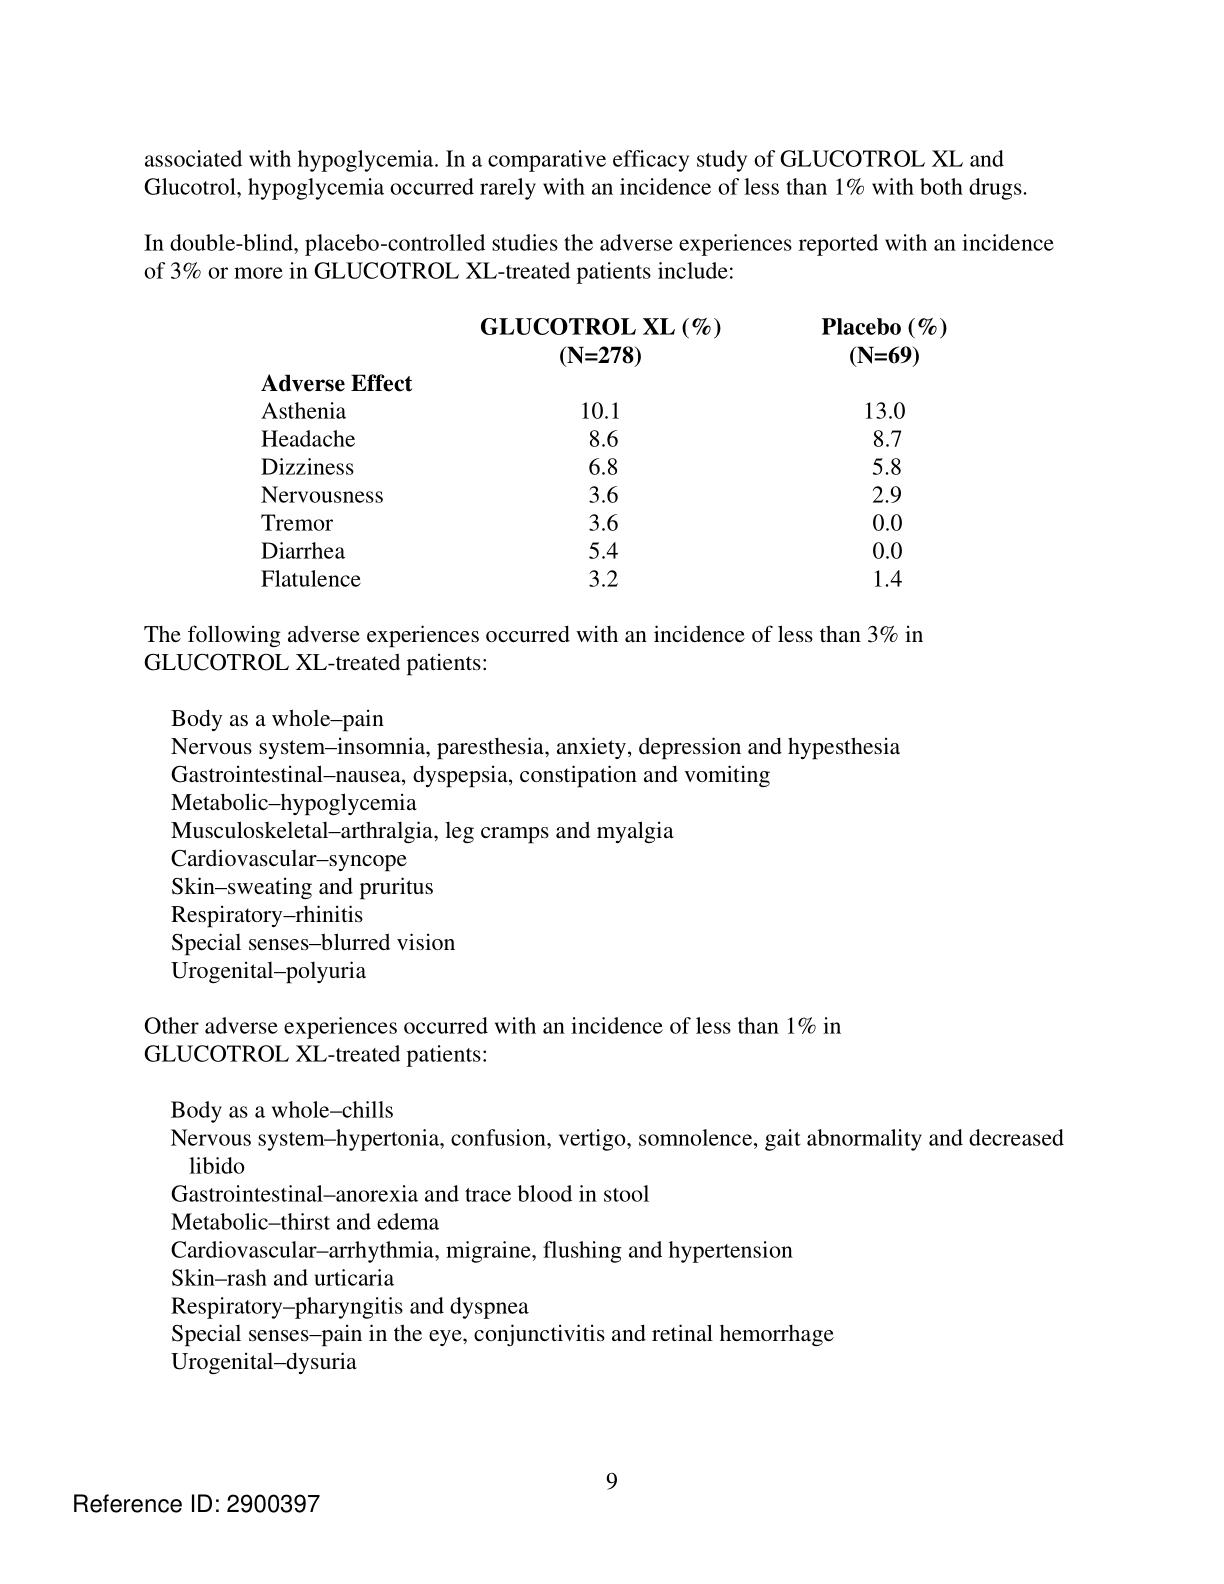nolines: (262, 314, 948, 591)
